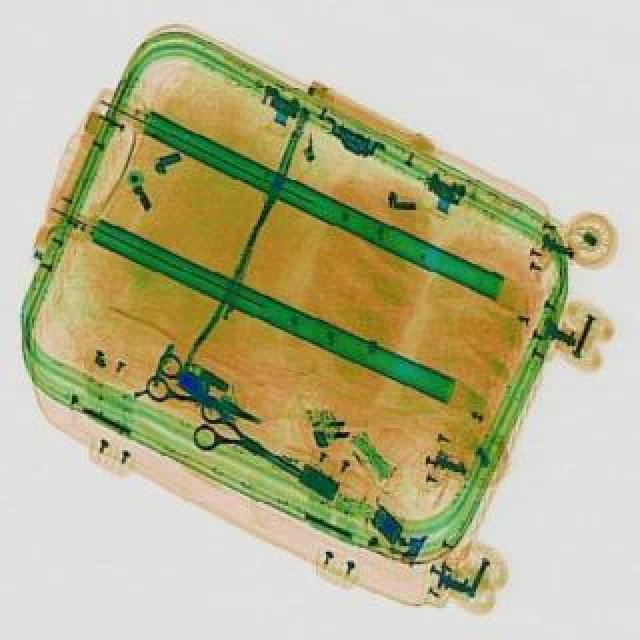pliers: (176, 396, 312, 502), (138, 354, 268, 448)
